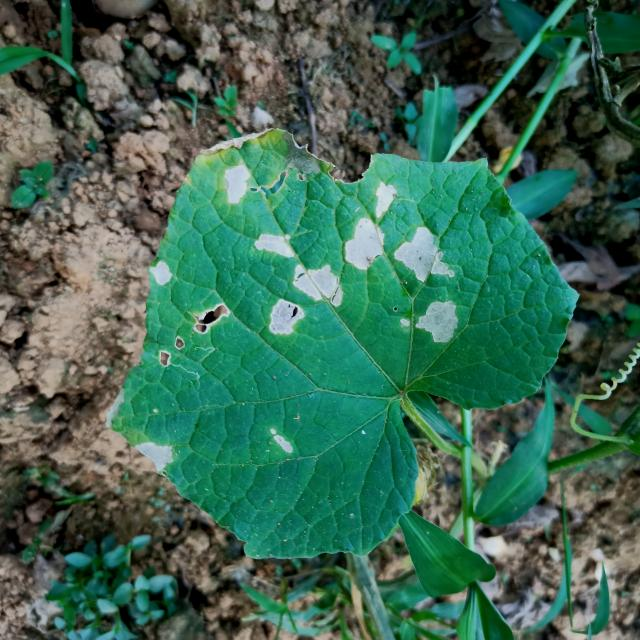disease_cucumber: (270, 263, 341, 336), (341, 182, 396, 269), (158, 304, 231, 369), (395, 226, 454, 285), (398, 299, 459, 345), (224, 163, 252, 205), (134, 442, 174, 471), (254, 233, 294, 260), (269, 428, 292, 454), (151, 261, 172, 288)
